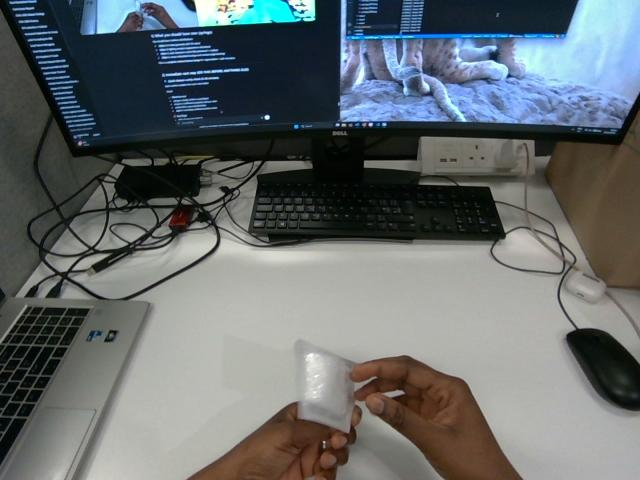gauze: (294, 340, 354, 432)
